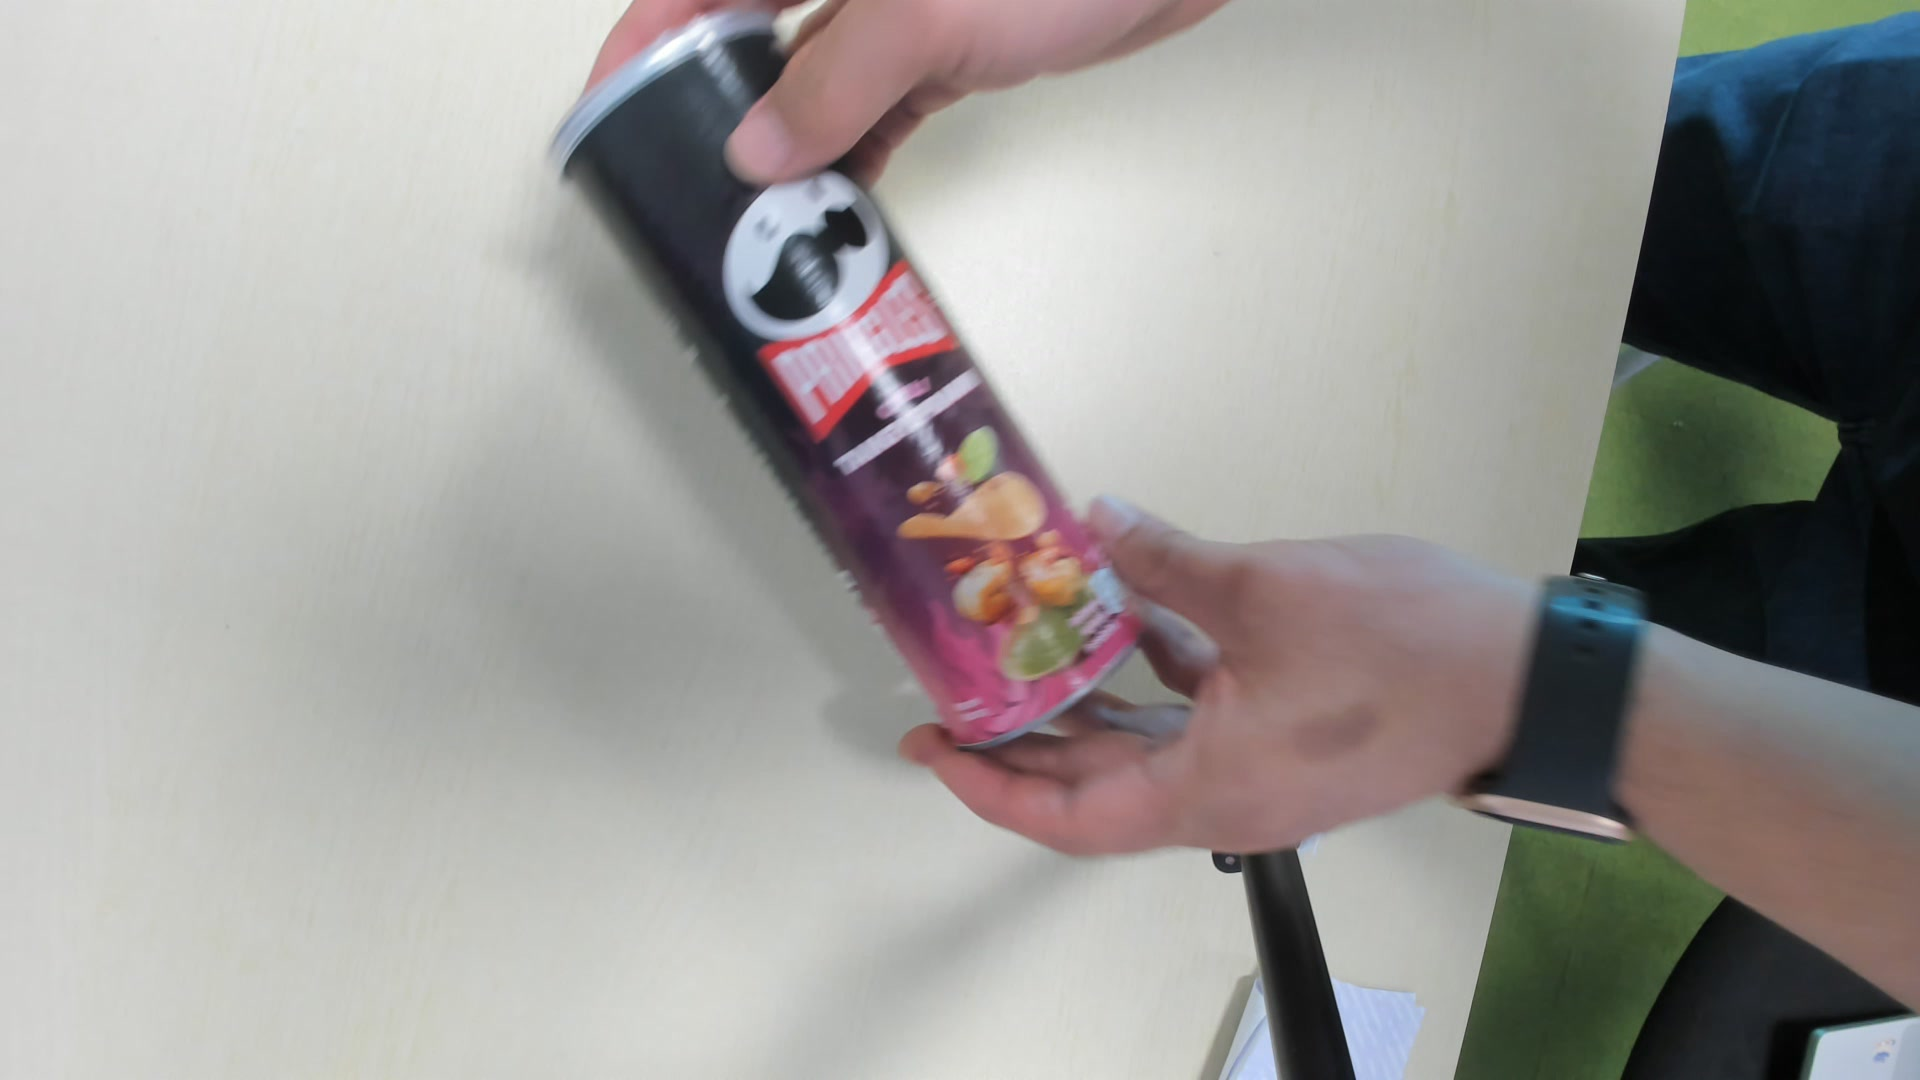PotatoChipsKeropok_0-99g_NonHalal_NonHealthy: (545, 21, 1137, 748)
